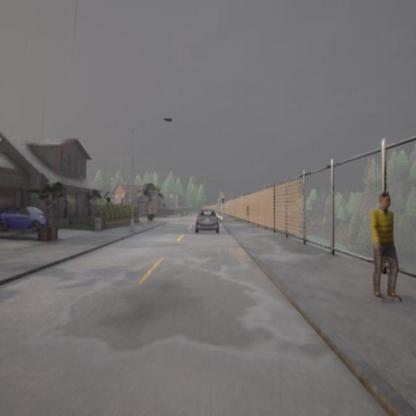person: (369, 190, 401, 301)
vehicle: (1, 206, 48, 231), (193, 211, 221, 234)
